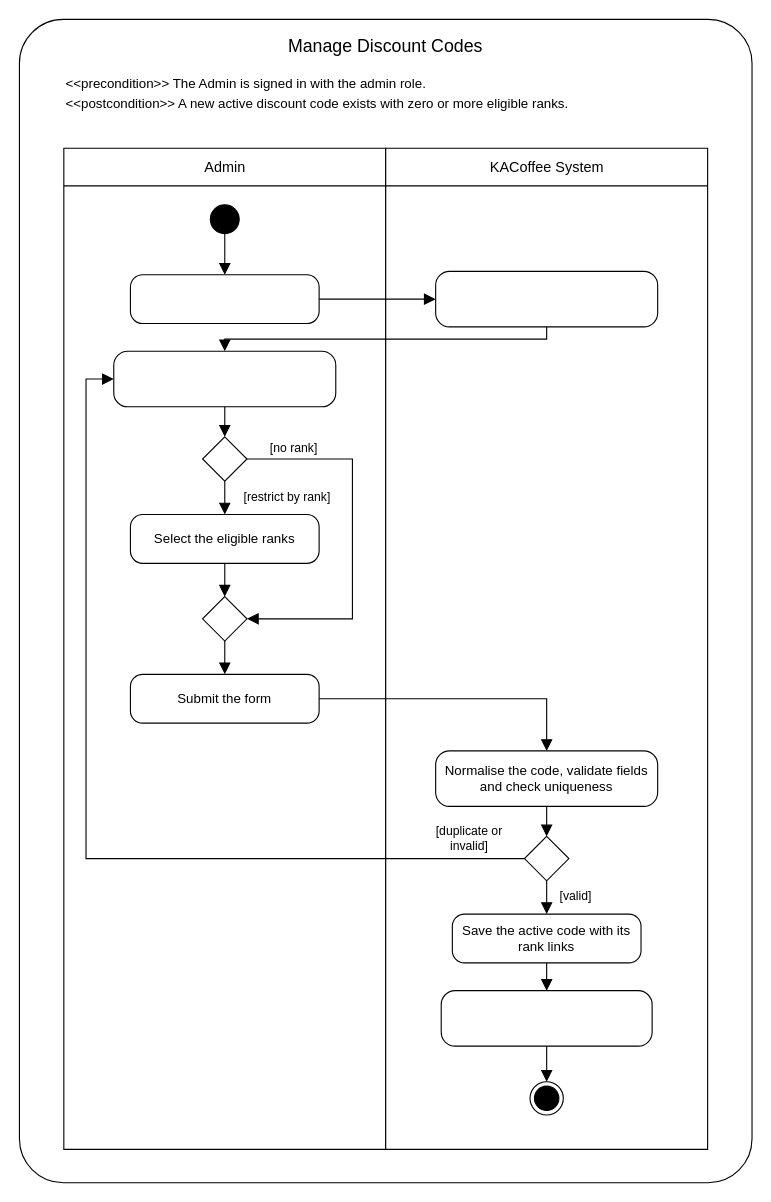
Image size: 771x1202. Some labels were removed from this diagram. Here are the shapes that lost their labels. From the top down, the box of each, then its label:
(129, 274, 319, 324): Open the discount codes page
(435, 270, 658, 327): Display existing codes and the creation form with ranks
(113, 350, 336, 407): Enter code, description, type, value and minimum order value
(440, 990, 652, 1046): Show success, refresh the list and reset the form
